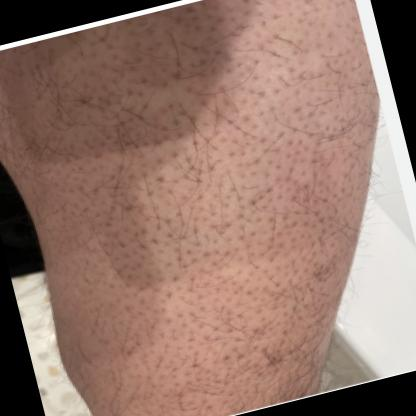Chicken Skin: (6, 0, 409, 416)
